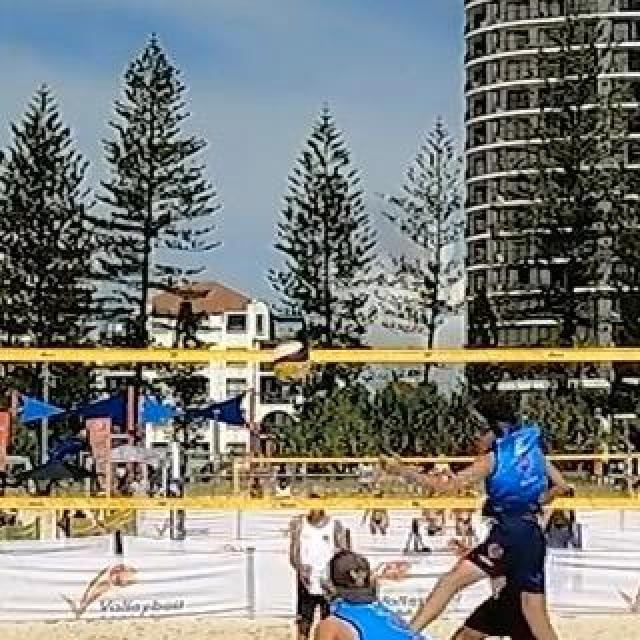volleyball: (273, 341, 311, 381)
